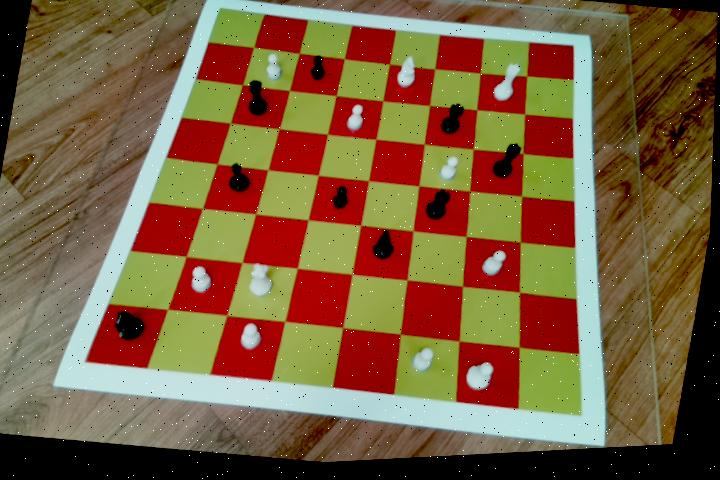chessboard-detect: (84, 9, 583, 420)
